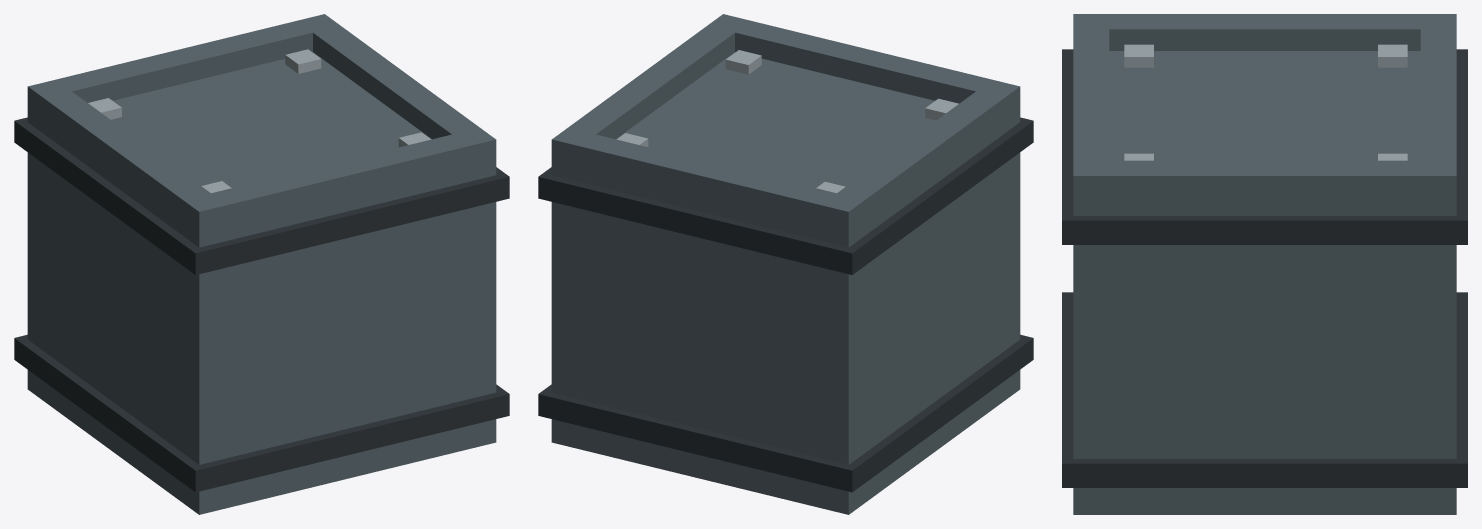
File: Crate 01.FBX
3 views of the same model, side by side, from view 1: azimuth 30°, elevation 25°; view 2: azimuth 150°, elevation 25°; view 3: azimuth 270°, elevation 25° (orthographic). The views are drawn at different scales.
Parts seen in each view (by area): view 1: Crate 01; view 2: Crate 01; view 3: Crate 01.
Part boxes in pixels (x1,y1,x2,y2): Crate 01: (14, 14, 509, 514); Crate 01: (538, 14, 1033, 514); Crate 01: (1062, 14, 1467, 514).
Bounding box in the file's own units: 75.05 × 69.17 × 75.05.
